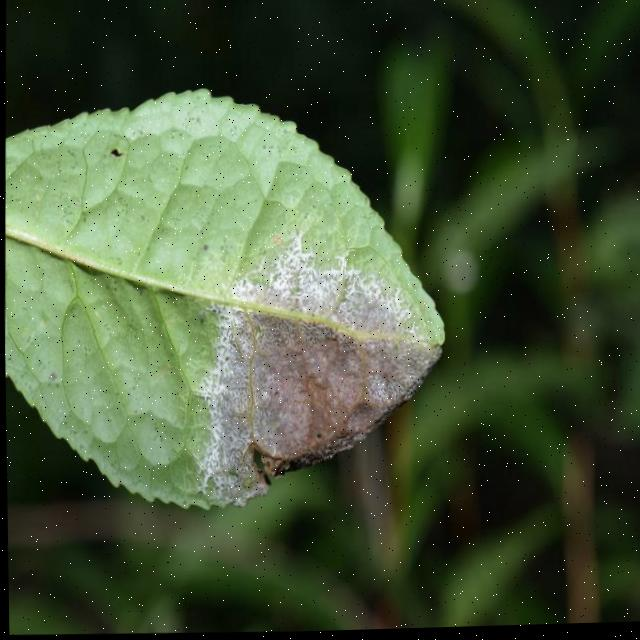Tea exobasidium blight: (209, 254, 435, 494)
